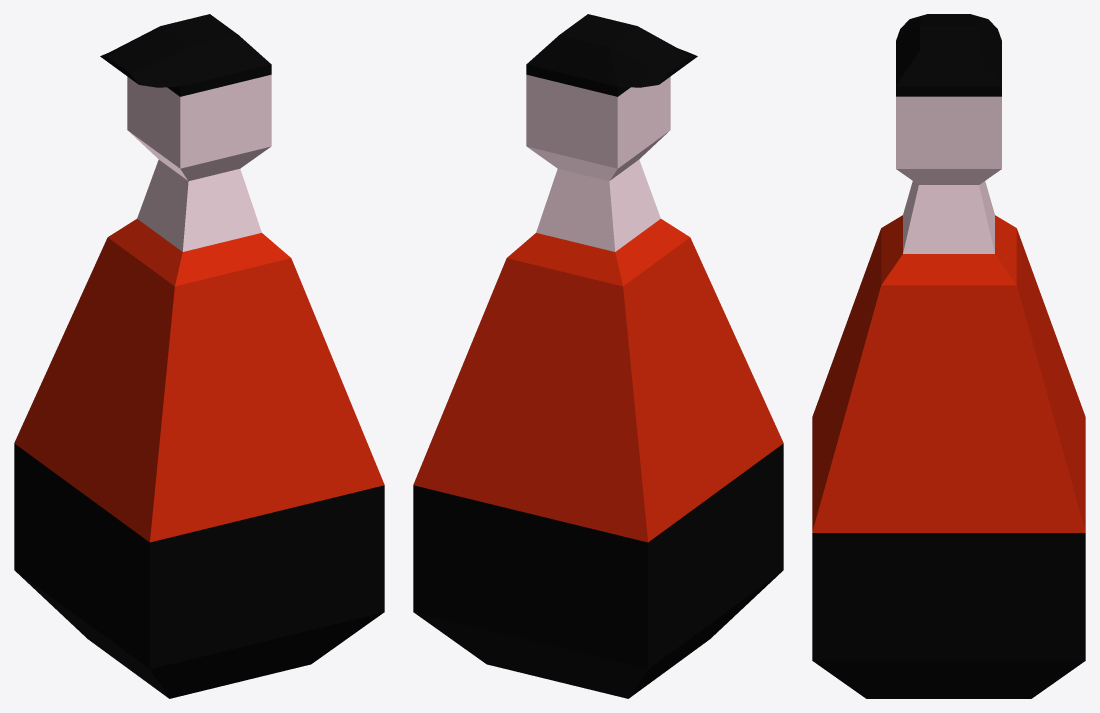
Rendered from enemyMelee.fbx.
3 views of the same model, side by side, from view 1: azimuth 30°, elevation 25°; view 2: azimuth 150°, elevation 25°; view 3: azimuth 270°, elevation 25° (orthographic).
Visible parts, largest first — view 1: Cube; view 2: Cube; view 3: Cube.
Boxes of the visible parts, x1,y1,x2,y2 form: Cube: (14,14,384,698); Cube: (413,14,783,698); Cube: (812,14,1085,698).
Size of the model in its own units: 105 by 266 by 105.
